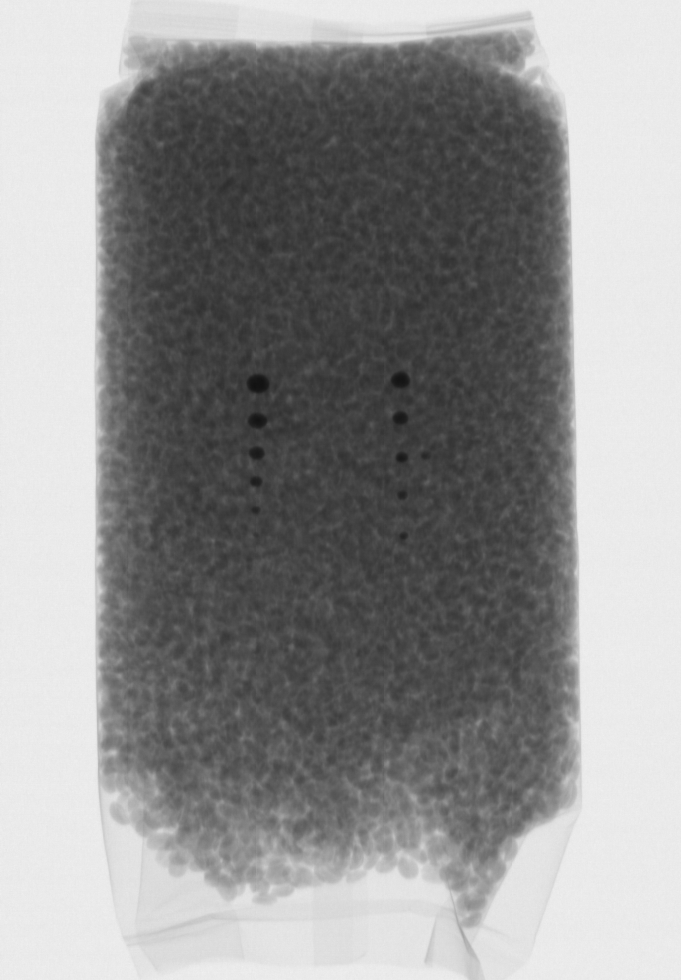glass: (244, 371, 272, 394), (386, 367, 410, 389), (391, 406, 410, 430), (247, 444, 267, 463), (246, 411, 268, 428), (248, 472, 264, 491), (395, 488, 411, 505), (394, 450, 412, 465), (250, 501, 263, 519), (399, 526, 411, 541)
glass_area: (380, 351, 427, 556), (235, 359, 283, 535)
